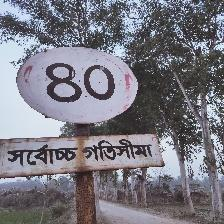Speed-limit: (4, 45, 155, 172)
